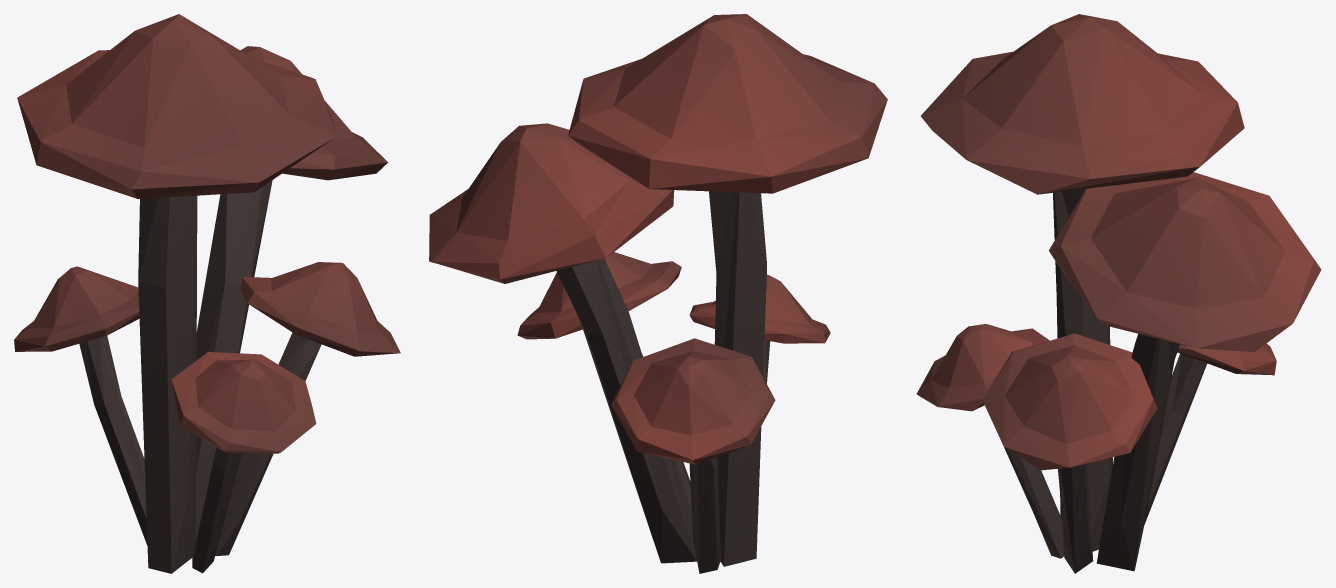
Rendered from Mush_1C.fbx.
The picture shows the model from 3 angles, left to right: view 1: azimuth 30°, elevation 25°; view 2: azimuth 150°, elevation 25°; view 3: azimuth 270°, elevation 25°; orthographic projection.
Parts seen in each view (by area): view 1: polySurface1313; view 2: polySurface1313; view 3: polySurface1313.
Boxes of the visible parts, box(x1,y1,x2,y2) form: polySurface1313: box(14, 14, 400, 573); polySurface1313: box(429, 14, 887, 573); polySurface1313: box(916, 14, 1321, 573).
Bounding box in the file's own units: 0.764 × 1.03 × 0.7086.
